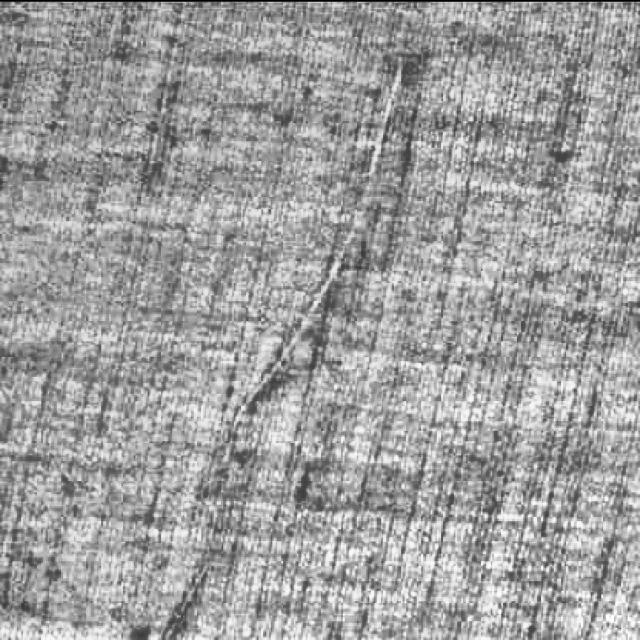objects: (210, 35, 421, 467)
